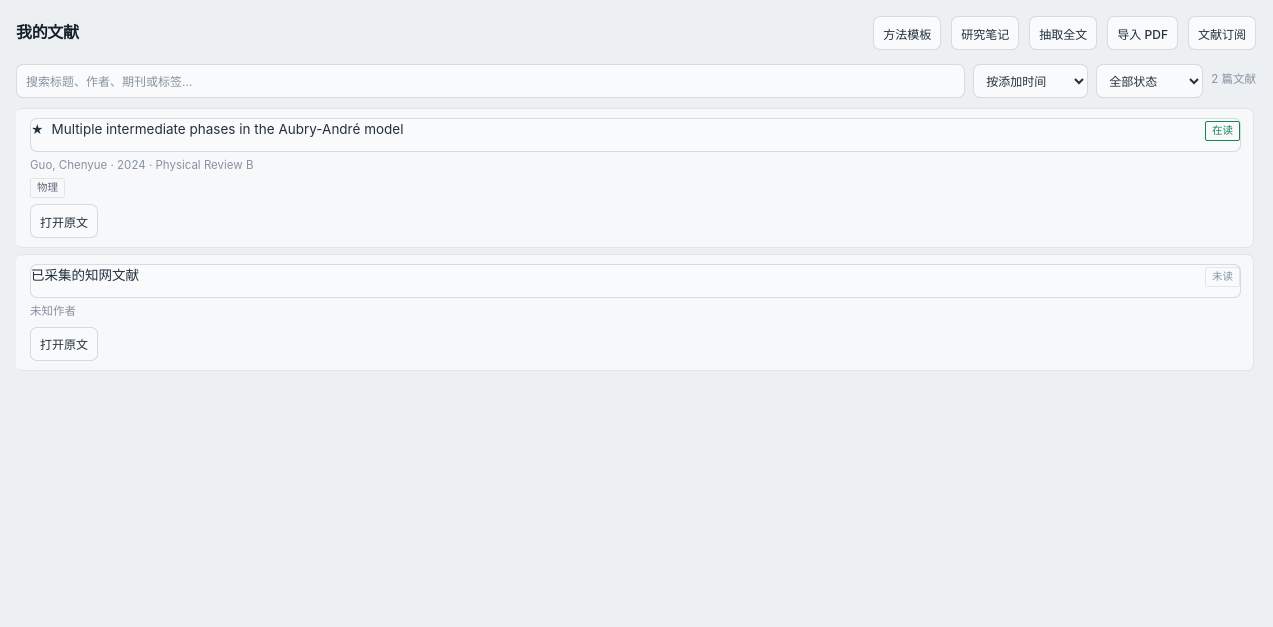
Test: LibraryPage — 我的文献 › 删除需要二次确认且确认后从列表移除
This screenshot has width=1273, height=627.
Click the button "已采集的知网文献 未读": (85, 275) [30, 264, 1241, 298]
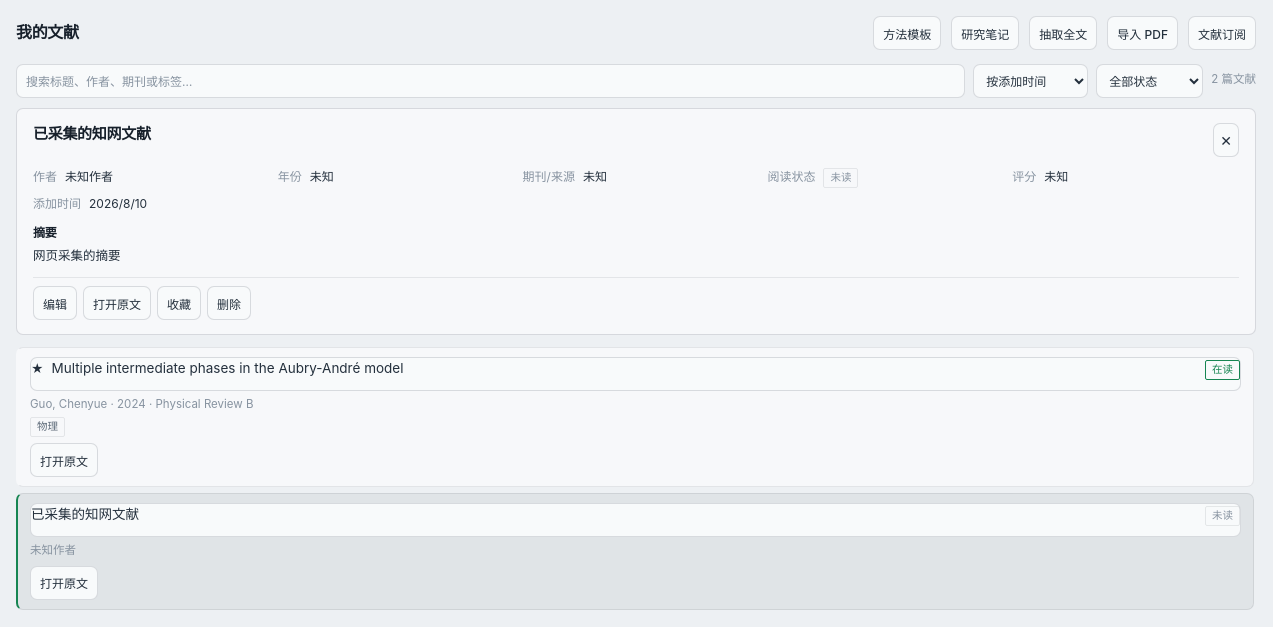
Result: the button with test id "library-detail-delete" is shown
Click the button with test id "library-detail-delete": (229, 303) [207, 286, 251, 320]
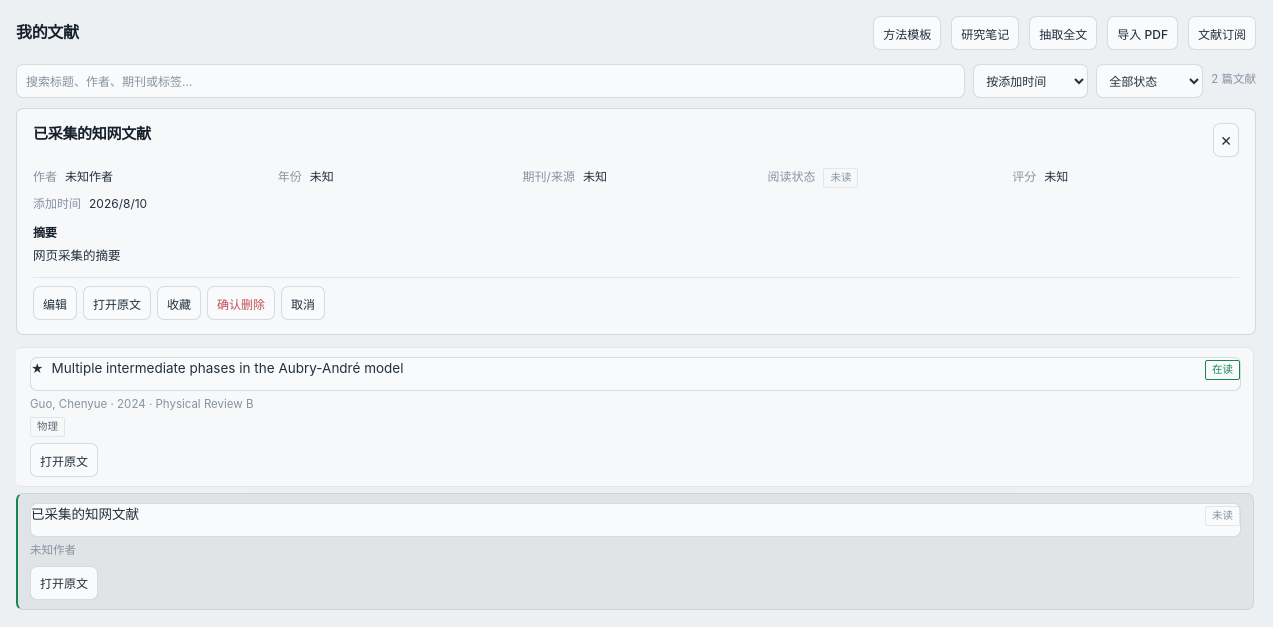
Expected: the number of list items with test id "library-paper-item" is 2, [16, 347, 1254, 487]; [16, 493, 1254, 610]
Result: the button with test id "library-delete-confirm" is shown
Click the button with test id "library-delete-confirm": (241, 303) [207, 286, 275, 320]
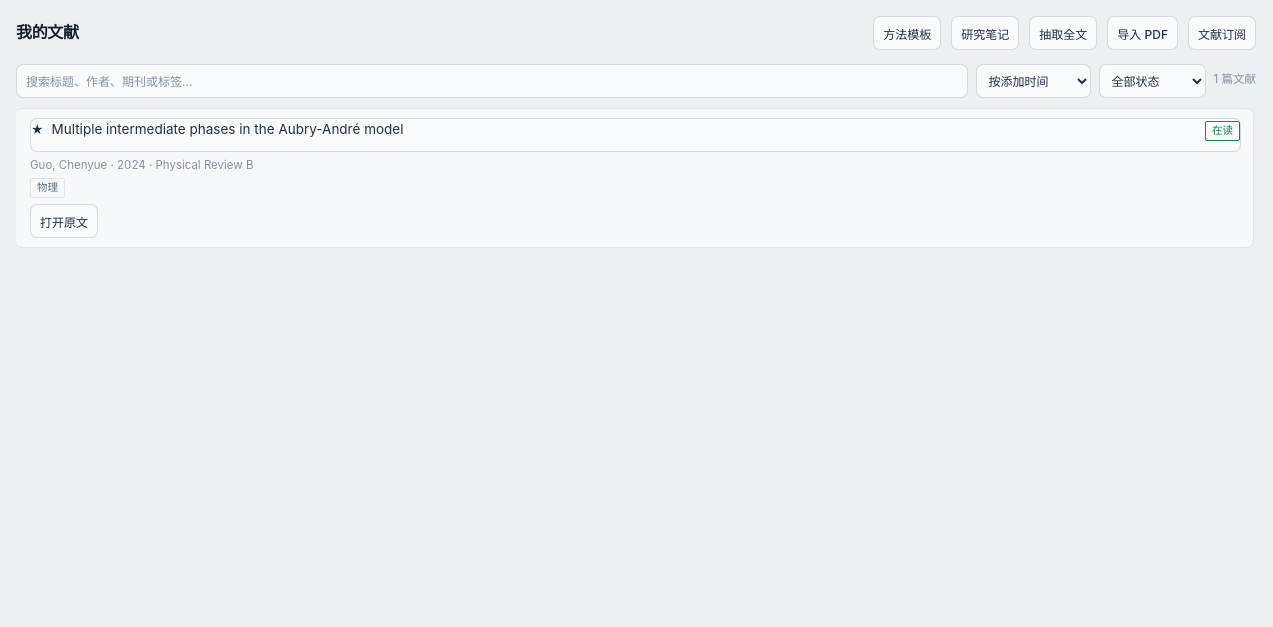
Result: the number of list items with test id "library-paper-item" is 1 at [16, 108, 1254, 248]
